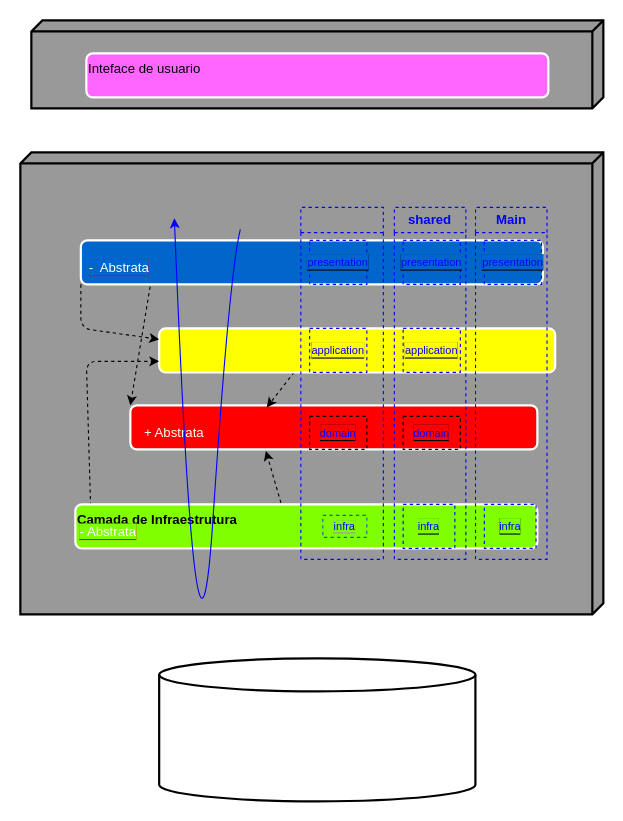
The diagram is 623 pixels wide and 821 high, and some of its shapes have lost their labels. Each missing label, with the box of its shape:
Camada de Aplicação: (158, 327, 556, 373)
Camada de Apresentação: (79, 239, 543, 285)
Camada de Dominio: (129, 404, 538, 450)
Database (Relacional): (158, 657, 476, 802)
ecommece-node-api (back-end): (19, 151, 604, 615)
ecommece-web-app (front-end): (30, 19, 604, 109)
Modelus: (300, 206, 383, 559)
